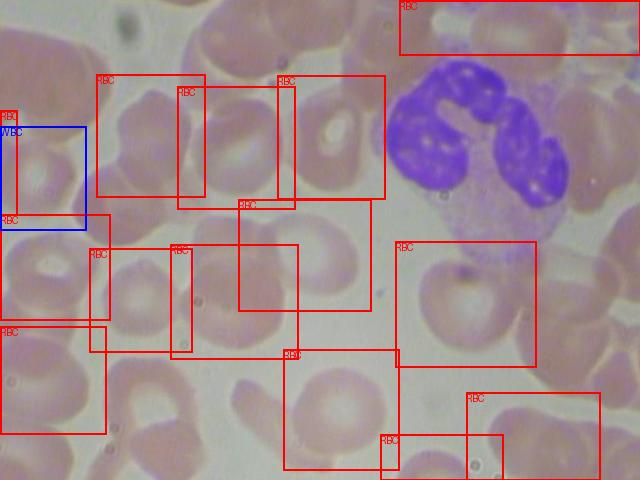RBC: (395, 241, 536, 367), (238, 199, 371, 311), (170, 244, 298, 359), (177, 86, 295, 209), (283, 349, 399, 470), (96, 74, 205, 197), (277, 75, 385, 199), (399, 0, 640, 55), (466, 392, 600, 480), (0, 214, 110, 320), (0, 326, 106, 434), (89, 248, 192, 352), (380, 434, 503, 480), (0, 110, 17, 215)
WBC: (0, 126, 86, 230)
